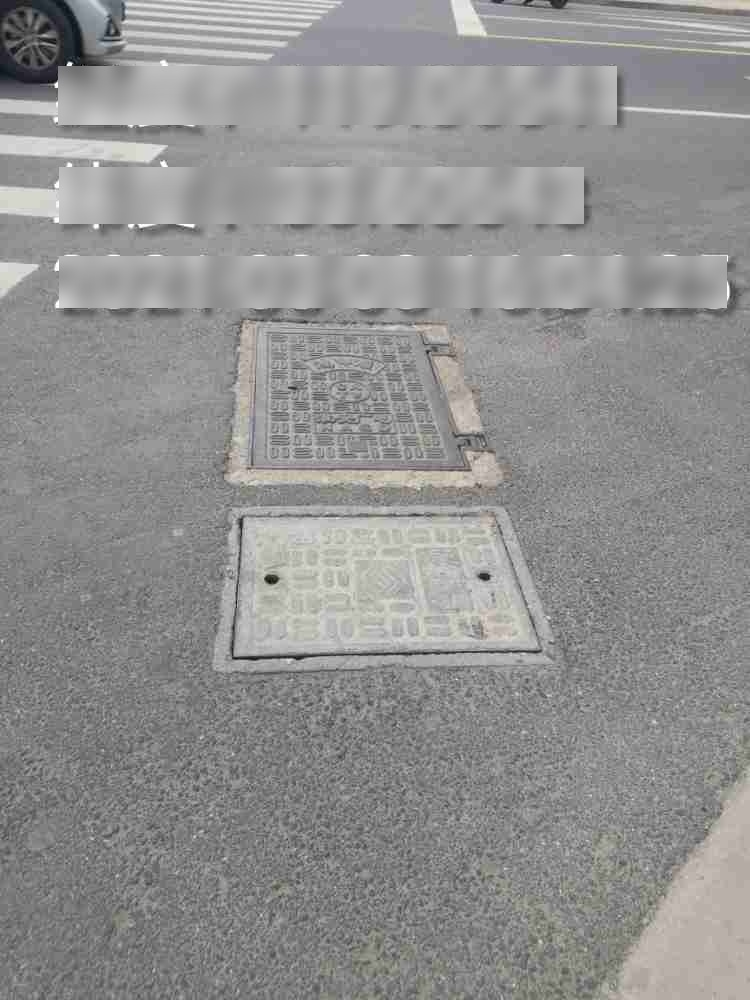good: (213, 506, 559, 666), (248, 318, 496, 476)
